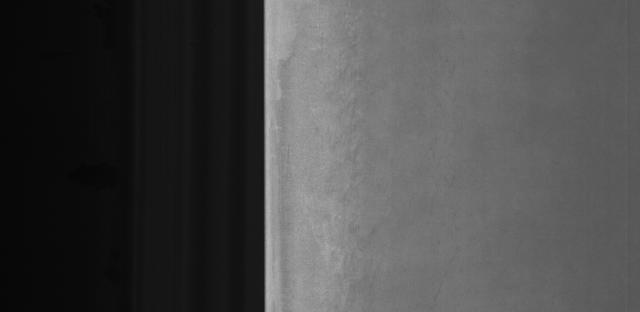silk_spot: (306, 36, 388, 220)
